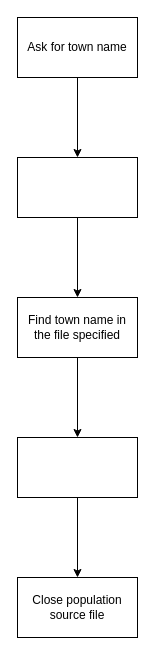
The diagram is 155 pixels wide and 655 high, and some of its shapes have lost their labels. The shapes that lost their labels are listed below. From the top down, each one's centre as x and y in pixels, then its label:
At point (77, 187): "Ask for file name".
At point (77, 467): "For every 1000 people, add asterisk to chart for the corresponding year".
